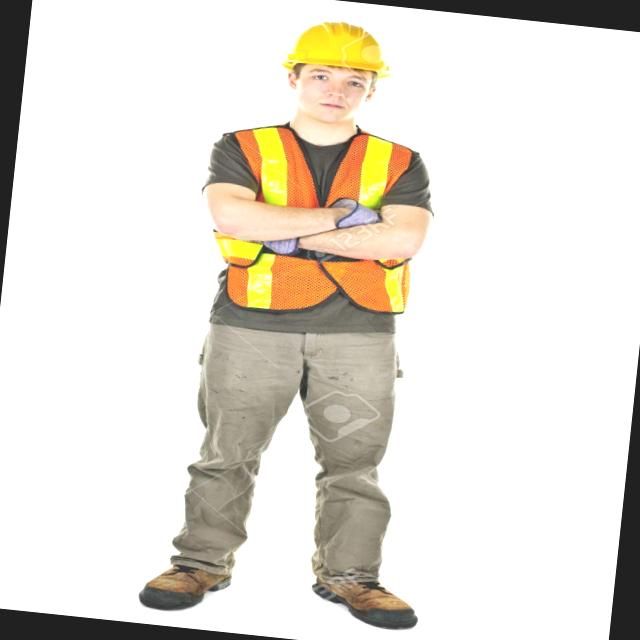helmet: (270, 15, 404, 90)
no-goggles: (294, 62, 376, 96)
vest: (175, 105, 468, 330)
